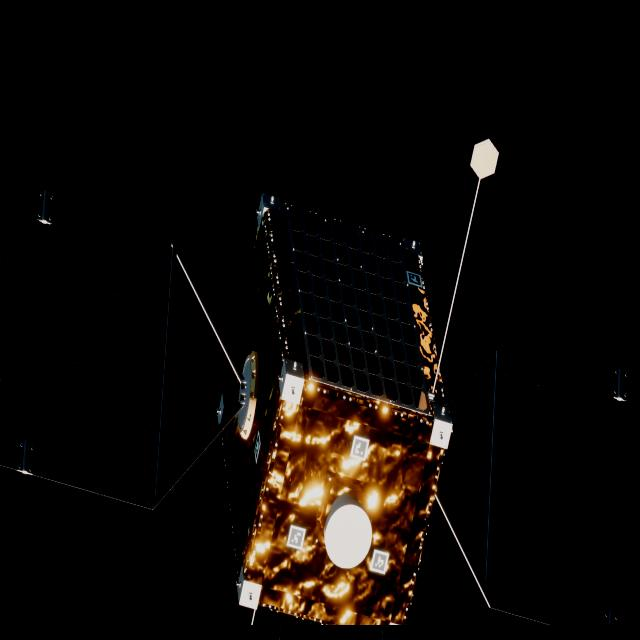satellite: (0, 179, 640, 639)
